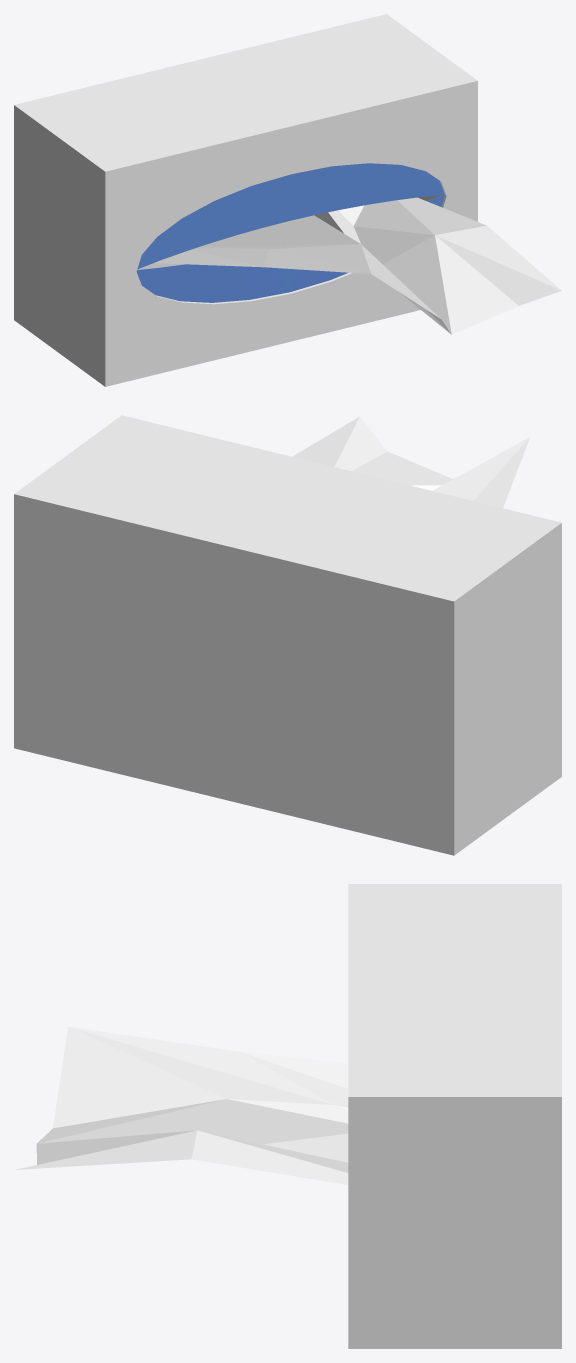
The picture shows the model from 3 angles, top to bottom: view 1: azimuth 30°, elevation 25°; view 2: azimuth 150°, elevation 25°; view 3: azimuth 270°, elevation 25°; orthographic projection. The views are drawn at different scales.
Visible parts, largest first — view 1: box of tissue; view 2: box of tissue; view 3: box of tissue.
Part boxes in pixels (<box>): box of tissue: <box>14,14,561,386</box>; box of tissue: <box>14,415,561,855</box>; box of tissue: <box>15,884,561,1348</box>.
Size of the model in its own units: 12.29 by 6.78 by 13.37.
